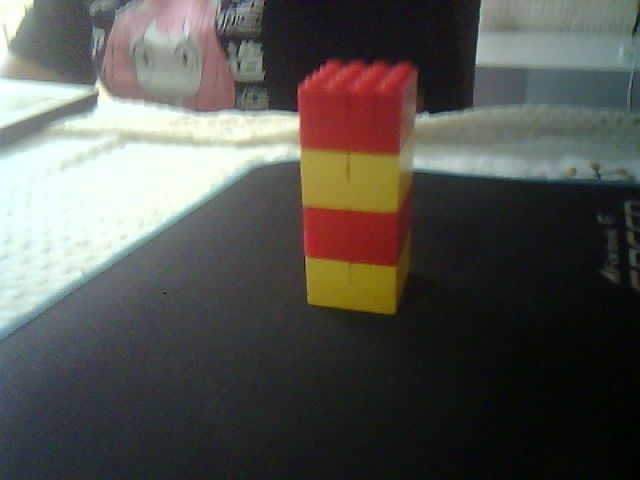lego: (296, 58, 418, 316)
